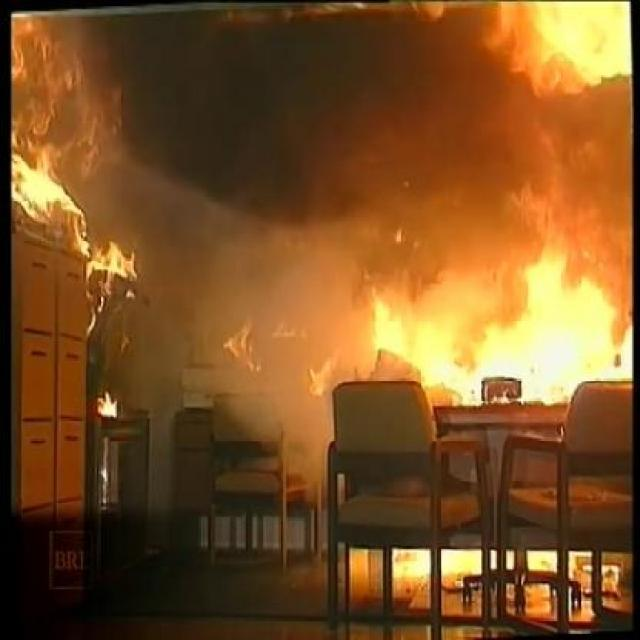fire: (362, 239, 600, 364), (17, 26, 111, 209)
smoke: (136, 172, 319, 394)
